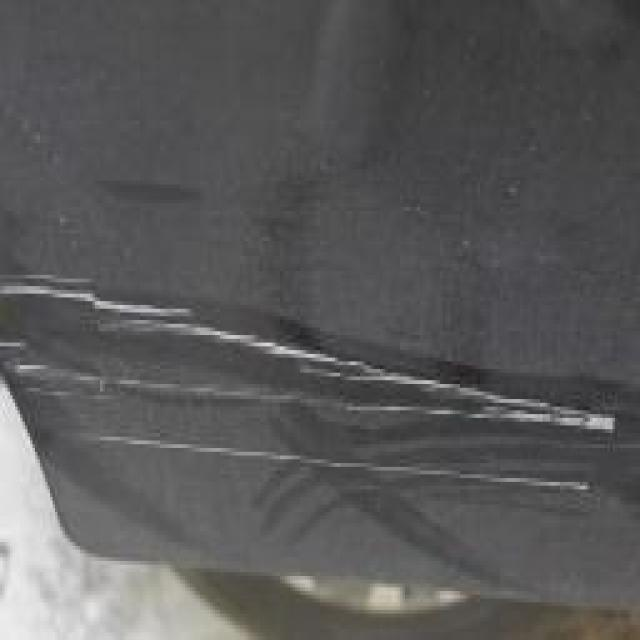Door: (2, 264, 635, 508)
